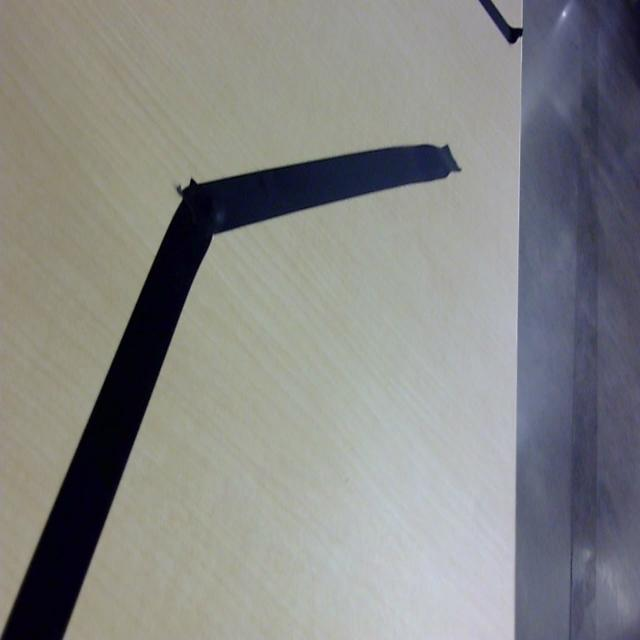tape: (0, 130, 480, 640), (469, 0, 534, 59)
